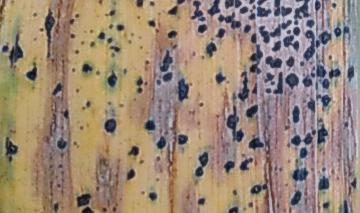tarspot: (226, 104, 245, 142), (8, 33, 24, 69), (45, 8, 55, 57), (249, 44, 263, 74), (304, 29, 316, 61), (293, 1, 311, 19), (239, 71, 250, 100), (224, 12, 242, 29), (161, 49, 174, 71), (247, 135, 265, 150), (5, 136, 18, 156), (284, 35, 299, 52), (178, 78, 189, 101), (264, 54, 282, 68), (191, 1, 204, 20), (258, 25, 271, 44), (26, 62, 38, 82), (286, 72, 299, 90), (274, 71, 284, 94), (318, 123, 328, 144), (292, 168, 308, 181), (317, 175, 330, 191), (104, 119, 117, 135), (207, 1, 221, 15), (268, 24, 282, 38), (76, 193, 91, 206), (290, 190, 302, 206), (240, 157, 252, 173), (207, 39, 217, 58), (246, 103, 259, 117), (263, 71, 276, 85), (318, 31, 331, 45), (305, 97, 317, 112), (107, 71, 118, 87), (223, 160, 236, 173), (52, 82, 63, 97), (316, 63, 327, 78), (256, 6, 272, 16), (292, 104, 300, 124), (127, 144, 140, 156), (56, 137, 68, 149), (215, 71, 227, 83), (290, 134, 302, 146), (144, 120, 157, 131), (328, 67, 341, 78), (198, 152, 208, 166), (82, 63, 93, 74), (215, 27, 226, 38), (302, 76, 313, 87), (162, 72, 174, 82), (273, 1, 281, 16), (281, 6, 293, 16), (156, 137, 166, 149), (284, 54, 294, 66), (346, 64, 354, 79), (302, 132, 312, 144), (342, 199, 350, 213), (1, 1, 6, 23), (167, 5, 178, 15), (198, 23, 208, 34), (271, 41, 281, 52), (250, 184, 261, 194), (228, 205, 241, 213), (127, 168, 135, 181), (242, 23, 252, 33), (194, 167, 204, 177), (178, 134, 187, 145), (322, 94, 331, 105), (349, 177, 358, 188), (81, 206, 95, 213), (299, 147, 307, 159), (252, 81, 259, 94), (147, 19, 157, 28), (168, 31, 178, 40), (306, 18, 315, 28), (2, 42, 10, 53), (281, 20, 292, 28), (186, 108, 197, 116), (105, 10, 117, 17), (250, 32, 257, 44), (97, 31, 106, 40), (247, 12, 256, 21), (322, 79, 330, 89), (148, 192, 158, 200), (196, 197, 206, 205), (63, 109, 69, 121), (225, 1, 234, 9), (330, 1, 338, 10), (136, 76, 143, 86), (314, 1, 321, 11), (109, 46, 120, 52), (53, 202, 59, 213), (293, 26, 301, 34), (135, 1, 144, 8), (335, 28, 342, 37), (240, 7, 248, 14), (343, 25, 350, 33), (317, 116, 324, 124), (322, 201, 330, 208), (94, 184, 100, 193), (330, 167, 336, 176), (257, 1, 267, 6), (347, 186, 352, 196), (69, 32, 76, 39), (117, 24, 124, 31), (136, 87, 143, 94), (235, 1, 242, 8), (219, 14, 225, 22), (262, 183, 268, 191), (111, 205, 117, 213), (185, 193, 191, 201), (177, 1, 186, 6), (73, 141, 79, 148), (149, 1, 156, 7), (266, 87, 272, 94), (267, 114, 273, 121), (102, 206, 108, 213), (59, 152, 65, 159), (47, 163, 54, 169), (8, 155, 13, 163), (123, 67, 128, 75), (192, 49, 197, 57), (316, 39, 321, 47), (315, 81, 319, 91), (286, 141, 291, 149), (49, 180, 54, 188), (95, 70, 101, 76), (90, 41, 96, 47), (109, 21, 113, 30), (119, 102, 125, 108), (156, 79, 162, 85), (198, 101, 204, 107), (293, 19, 299, 25), (316, 94, 322, 100), (215, 113, 221, 119), (343, 121, 349, 127), (321, 166, 327, 172), (58, 163, 64, 169), (286, 158, 292, 164), (86, 101, 91, 108), (106, 38, 113, 43), (199, 16, 206, 21), (138, 159, 145, 164), (328, 54, 333, 61), (312, 129, 317, 136), (248, 1, 256, 5), (276, 201, 280, 209), (32, 12, 38, 17), (33, 36, 38, 42), (70, 19, 75, 25), (75, 12, 80, 18), (79, 125, 84, 131), (75, 87, 80, 93), (89, 28, 94, 34), (111, 52, 116, 58), (107, 100, 112, 106), (145, 59, 150, 65), (173, 44, 178, 50), (201, 54, 206, 60), (300, 61, 305, 67), (311, 72, 316, 78), (141, 189, 146, 195), (285, 125, 291, 130), (294, 158, 299, 164), (248, 202, 254, 207), (48, 191, 54, 196), (132, 96, 137, 102), (233, 189, 237, 196), (98, 1, 103, 6), (71, 67, 76, 72), (75, 49, 80, 54), (144, 81, 149, 86), (139, 45, 144, 50), (130, 31, 135, 36), (155, 28, 160, 33), (155, 177, 160, 182), (284, 183, 289, 188), (312, 65, 316, 71), (279, 166, 283, 172), (56, 183, 62, 187), (11, 1, 15, 7), (61, 125, 65, 131), (40, 27, 44, 32), (82, 105, 86, 110), (80, 40, 84, 45), (128, 39, 132, 44), (137, 15, 141, 20), (157, 11, 161, 16), (286, 30, 291, 34), (157, 156, 161, 161), (197, 120, 201, 125), (283, 208, 287, 213), (49, 155, 53, 160), (275, 166, 278, 172), (138, 35, 142, 39), (250, 9, 254, 13), (252, 5, 256, 9), (243, 206, 246, 211), (190, 82, 193, 86)
